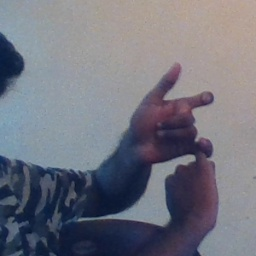S: (121, 60, 229, 215)
